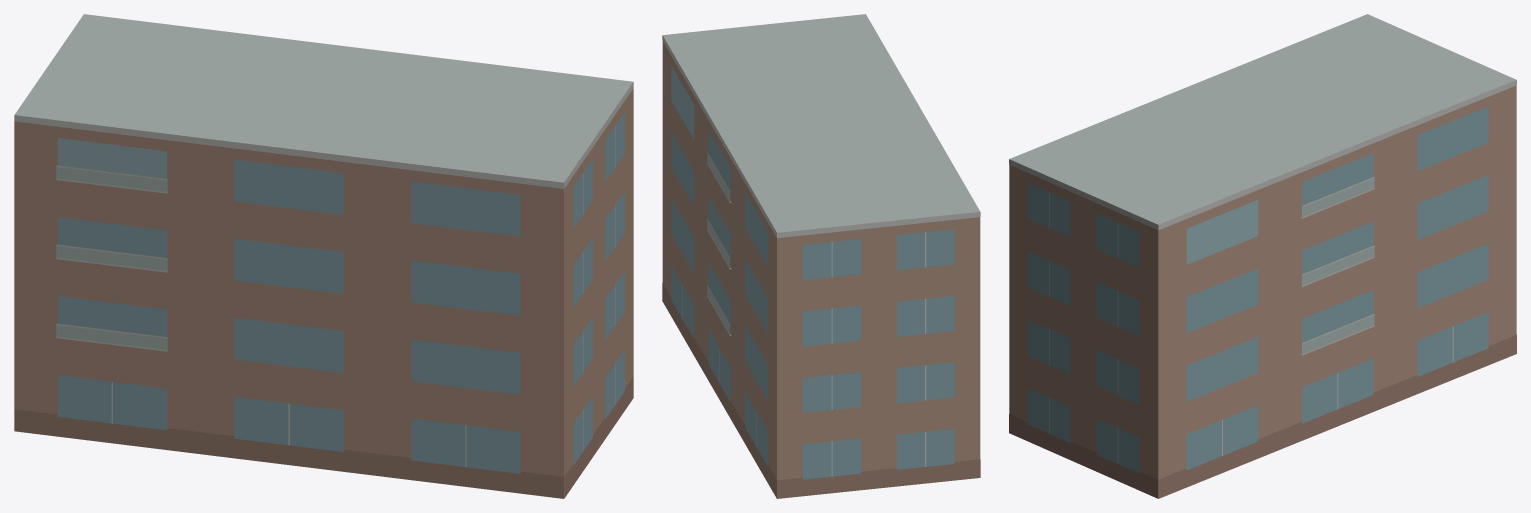
File: residential-fbf51175-9e8b-4a19-923c-cfb89ebd274c.glb
The picture shows the model from 3 angles, left to right: view 1: azimuth 30°, elevation 25°; view 2: azimuth 150°, elevation 25°; view 3: azimuth 270°, elevation 25°; orthographic projection. The views are drawn at different scales.
Visible parts, largest first — view 1: residential-fbf51175-9e8b-4a19-923c-cfb89ebd274c.tmp; view 2: residential-fbf51175-9e8b-4a19-923c-cfb89ebd274c.tmp; view 3: residential-fbf51175-9e8b-4a19-923c-cfb89ebd274c.tmp.
Boxes of the visible parts, left/top/right/bottom form: residential-fbf51175-9e8b-4a19-923c-cfb89ebd274c.tmp: left=14, top=14, right=633, bottom=498; residential-fbf51175-9e8b-4a19-923c-cfb89ebd274c.tmp: left=662, top=14, right=980, bottom=498; residential-fbf51175-9e8b-4a19-923c-cfb89ebd274c.tmp: left=1009, top=14, right=1516, bottom=498.
Bounding box in the file's own units: 20.14 × 12.2 × 20.49.
